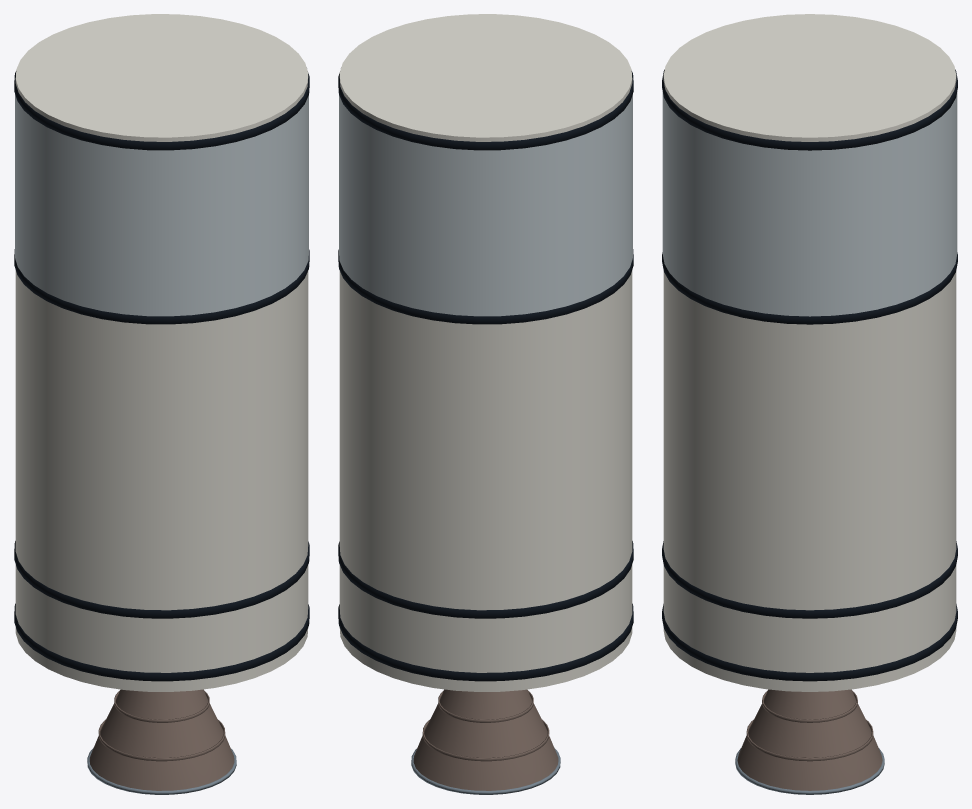
File: titan_stage_2.glb
3 renders of one model, left to right at view 1: azimuth 30°, elevation 25°; view 2: azimuth 150°, elevation 25°; view 3: azimuth 270°, elevation 25°, orthographic.
Visible parts, largest first — view 1: titan_stage_2.mesh_Warm_white_enamel, titan_stage_2.mesh_Satin_aluminum, titan_stage_2.lr91.bell.mesh_Heat-stained_alloy, titan_stage_2.mesh_Shadowed_interior, titan_stage_2.lr91.bell.mesh_Machined_steel; view 2: titan_stage_2.mesh_Warm_white_enamel, titan_stage_2.mesh_Satin_aluminum, titan_stage_2.lr91.bell.mesh_Heat-stained_alloy, titan_stage_2.mesh_Shadowed_interior, titan_stage_2.lr91.bell.mesh_Machined_steel; view 3: titan_stage_2.mesh_Warm_white_enamel, titan_stage_2.mesh_Satin_aluminum, titan_stage_2.lr91.bell.mesh_Heat-stained_alloy, titan_stage_2.mesh_Shadowed_interior, titan_stage_2.lr91.bell.mesh_Machined_steel.
Part boxes in pixels (bbox=[...]): titan_stage_2.mesh_Warm_white_enamel: bbox=[15, 14, 308, 691]; titan_stage_2.mesh_Satin_aluminum: bbox=[15, 94, 308, 316]; titan_stage_2.lr91.bell.mesh_Heat-stained_alloy: bbox=[89, 689, 234, 790]; titan_stage_2.mesh_Shadowed_interior: bbox=[14, 71, 309, 681]; titan_stage_2.lr91.bell.mesh_Machined_steel: bbox=[87, 748, 236, 794]; titan_stage_2.mesh_Warm_white_enamel: bbox=[339, 14, 632, 691]; titan_stage_2.mesh_Satin_aluminum: bbox=[339, 94, 632, 316]; titan_stage_2.lr91.bell.mesh_Heat-stained_alloy: bbox=[413, 689, 558, 790]; titan_stage_2.mesh_Shadowed_interior: bbox=[338, 71, 633, 681]; titan_stage_2.lr91.bell.mesh_Machined_steel: bbox=[411, 748, 560, 794]; titan_stage_2.mesh_Warm_white_enamel: bbox=[663, 14, 956, 691]; titan_stage_2.mesh_Satin_aluminum: bbox=[662, 92, 957, 316]; titan_stage_2.lr91.bell.mesh_Heat-stained_alloy: bbox=[737, 689, 882, 790]; titan_stage_2.mesh_Shadowed_interior: bbox=[662, 69, 957, 681]; titan_stage_2.lr91.bell.mesh_Machined_steel: bbox=[735, 748, 884, 794].
Size of the model in its own units: 3.08 by 7.9 by 3.08.
